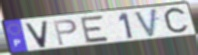1: (117, 12, 135, 40)
C: (162, 6, 191, 37)
E: (80, 14, 111, 45)
P: (52, 18, 79, 46)
V: (133, 7, 159, 39), (24, 20, 49, 50)
